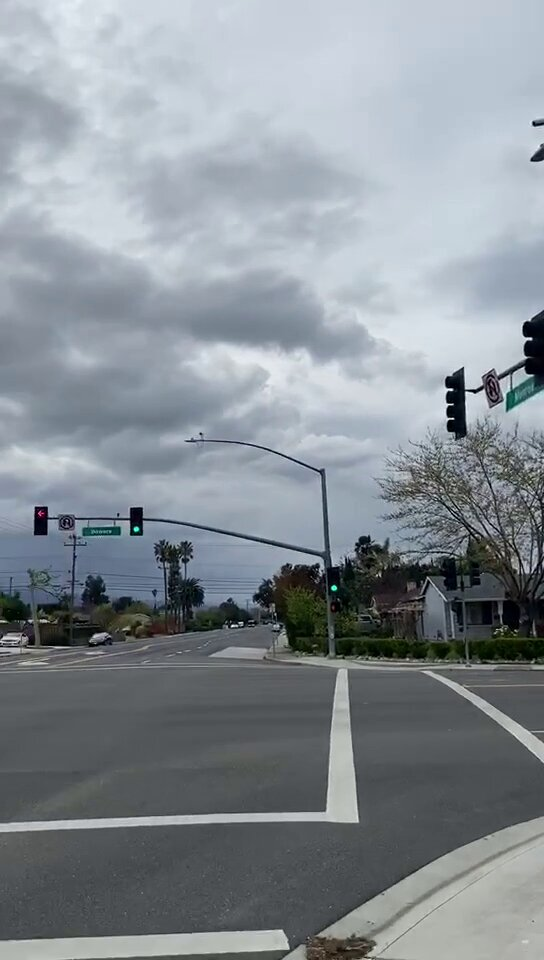green_light: (131, 509, 143, 535), (329, 568, 338, 593)
